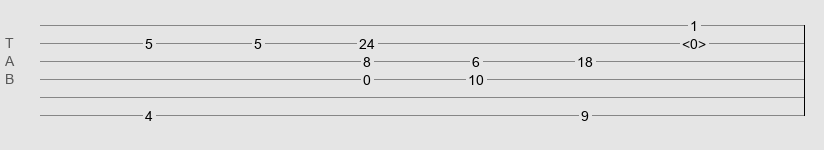0: (363, 72, 371, 82)
1: (690, 18, 698, 28)
10: (468, 72, 484, 82)
18: (577, 54, 593, 64)
24: (359, 36, 375, 46)
4: (145, 108, 153, 118)
5: (145, 36, 153, 46), (254, 36, 262, 46)
6: (472, 54, 480, 64)
8: (363, 54, 371, 64)
9: (581, 108, 589, 118)
harmonic: (682, 36, 706, 46)
